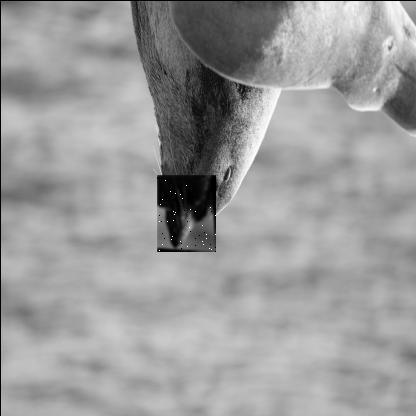face: (155, 173, 215, 251)
